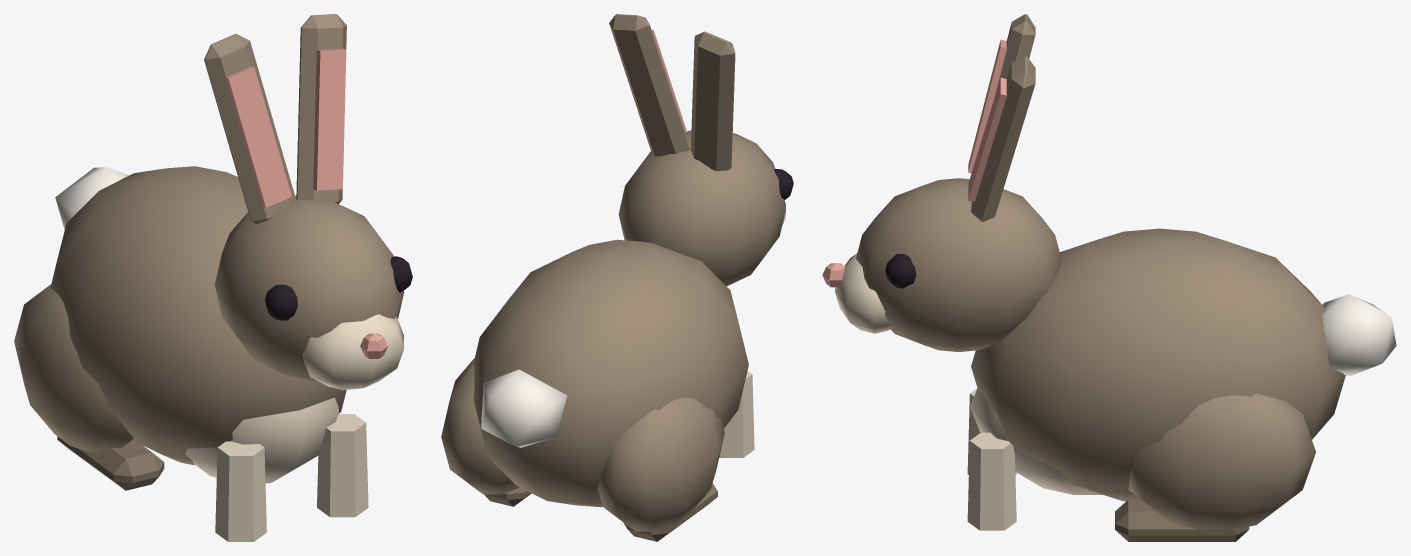
Rendered from critter_rabbit.glb.
3 views of the same model, side by side, from view 1: azimuth 30°, elevation 25°; view 2: azimuth 150°, elevation 25°; view 3: azimuth 270°, elevation 25° (orthographic). The views are drawn at different scales.
Parts seen in each view (by area): view 1: critter_rabbit; view 2: critter_rabbit; view 3: critter_rabbit.
Part boxes in pixels (left/top/right/bottom): critter_rabbit: left=14, top=14, right=412, bottom=541; critter_rabbit: left=441, top=14, right=793, bottom=541; critter_rabbit: left=822, top=14, right=1396, bottom=541.
Bounding box in the file's own units: 0.2699 × 0.4536 × 0.514.
